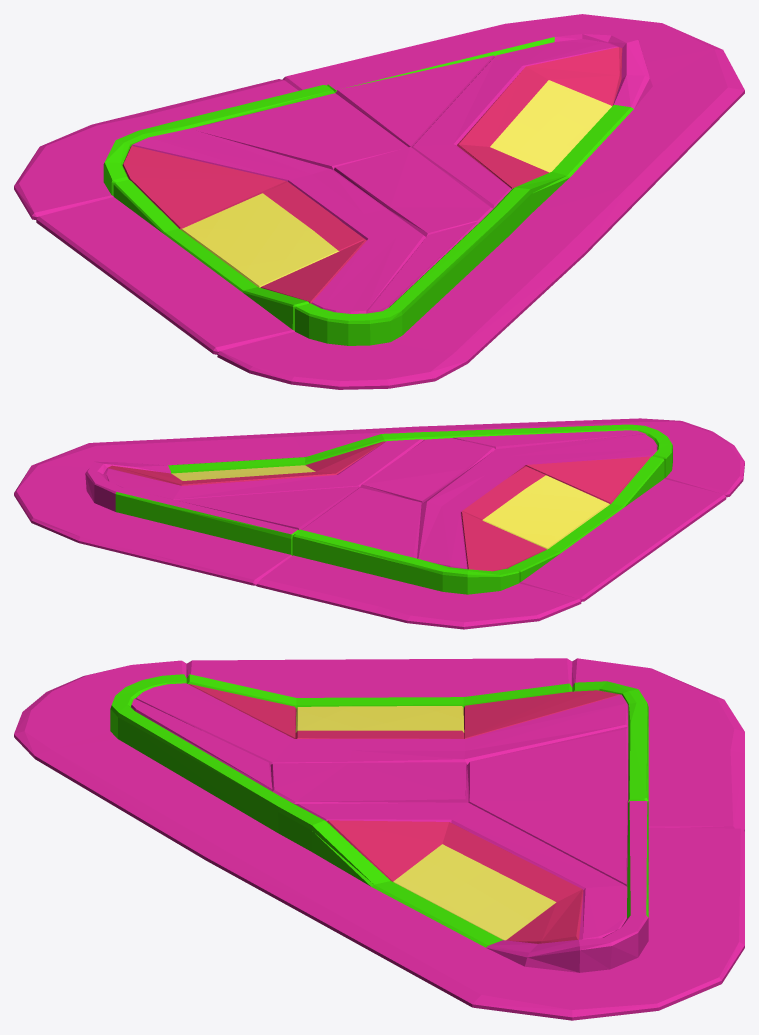
File: Sidewalk10.fbx
3 renders of one model, top to bottom at view 1: azimuth 30°, elevation 25°; view 2: azimuth 150°, elevation 25°; view 3: azimuth 270°, elevation 25°, orthographic. The views are drawn at different scales.
Visible parts, largest first — view 1: SM_Sidewalk_02d.mo; view 2: SM_Sidewalk_02d.mo; view 3: SM_Sidewalk_02d.mo.
Part boxes in pixels (box(x1,y1,x2,y2)): SM_Sidewalk_02d.mo: box(14, 14, 744, 389); SM_Sidewalk_02d.mo: box(14, 418, 744, 629); SM_Sidewalk_02d.mo: box(14, 658, 744, 1020).
Size of the model in its own units: 687 by 32.33 by 594.
